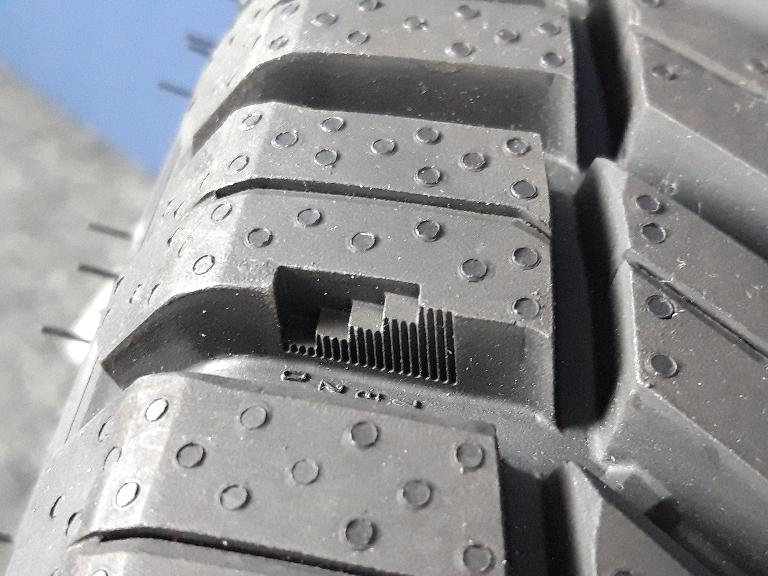temoin:100: (259, 256, 470, 399)
